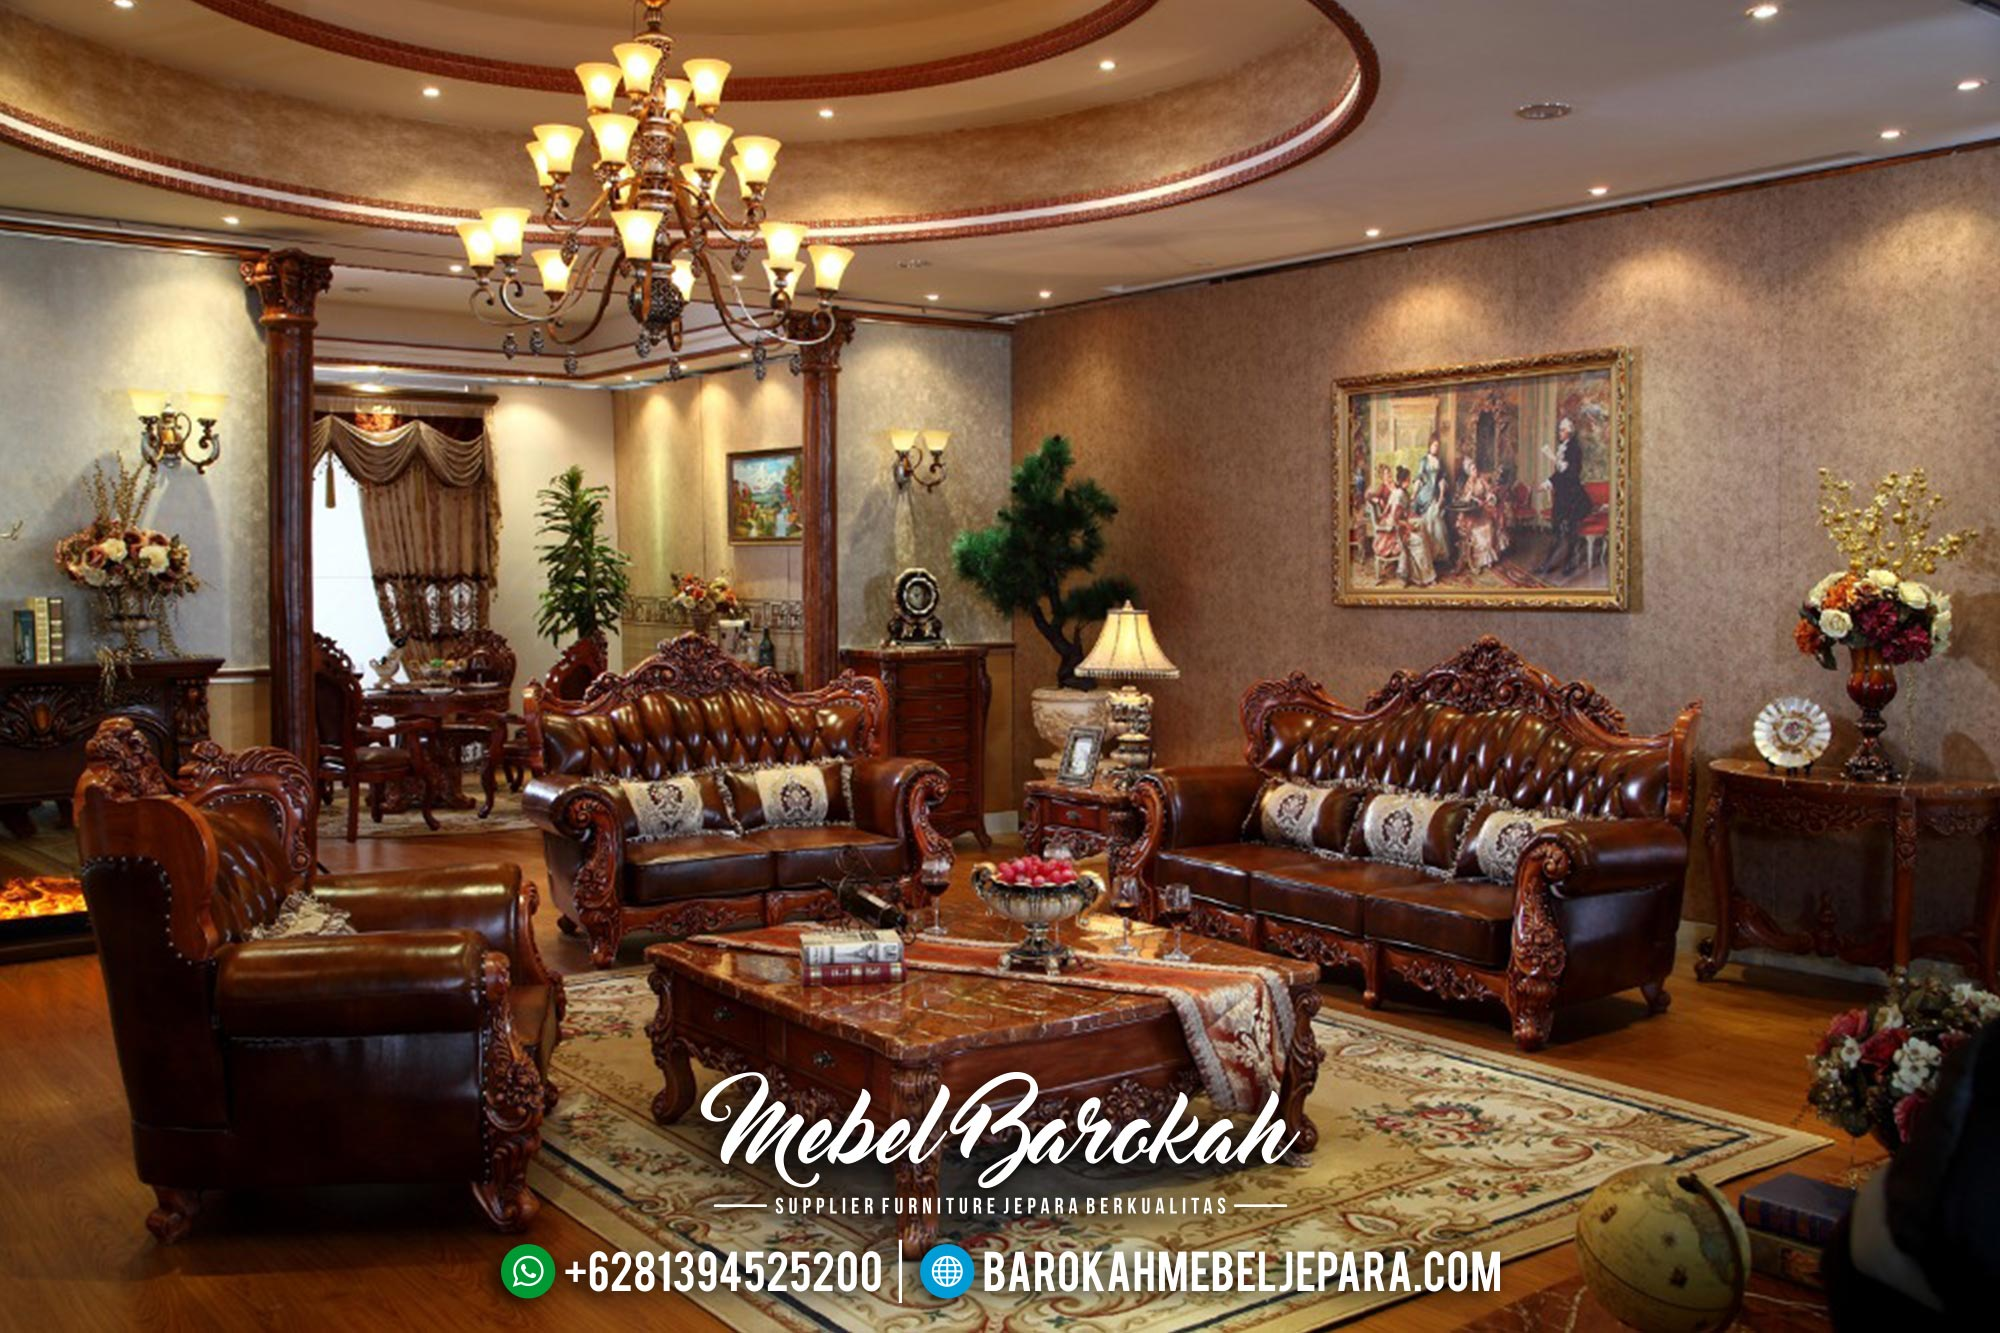Carving Chair: (71, 708, 572, 1189), (1132, 664, 1677, 1064), (509, 659, 1007, 922)
Carving Table: (648, 915, 1328, 1193)
